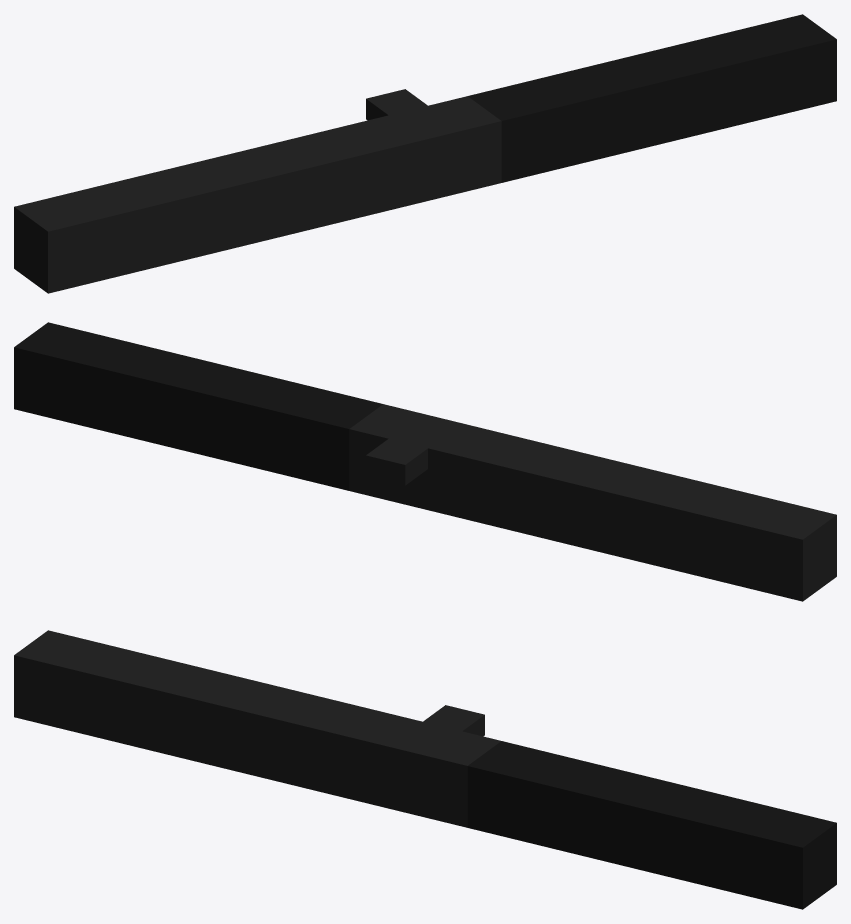
The model's file is Mp40_bolt.obj.
3 renders of one model, top to bottom at view 1: azimuth 30°, elevation 25°; view 2: azimuth 150°, elevation 25°; view 3: azimuth 330°, elevation 25°, orthographic.
Bounding box in the file's own units: 4 × 0.3 × 0.5.
Materials: 1 (1 with a texture image).
